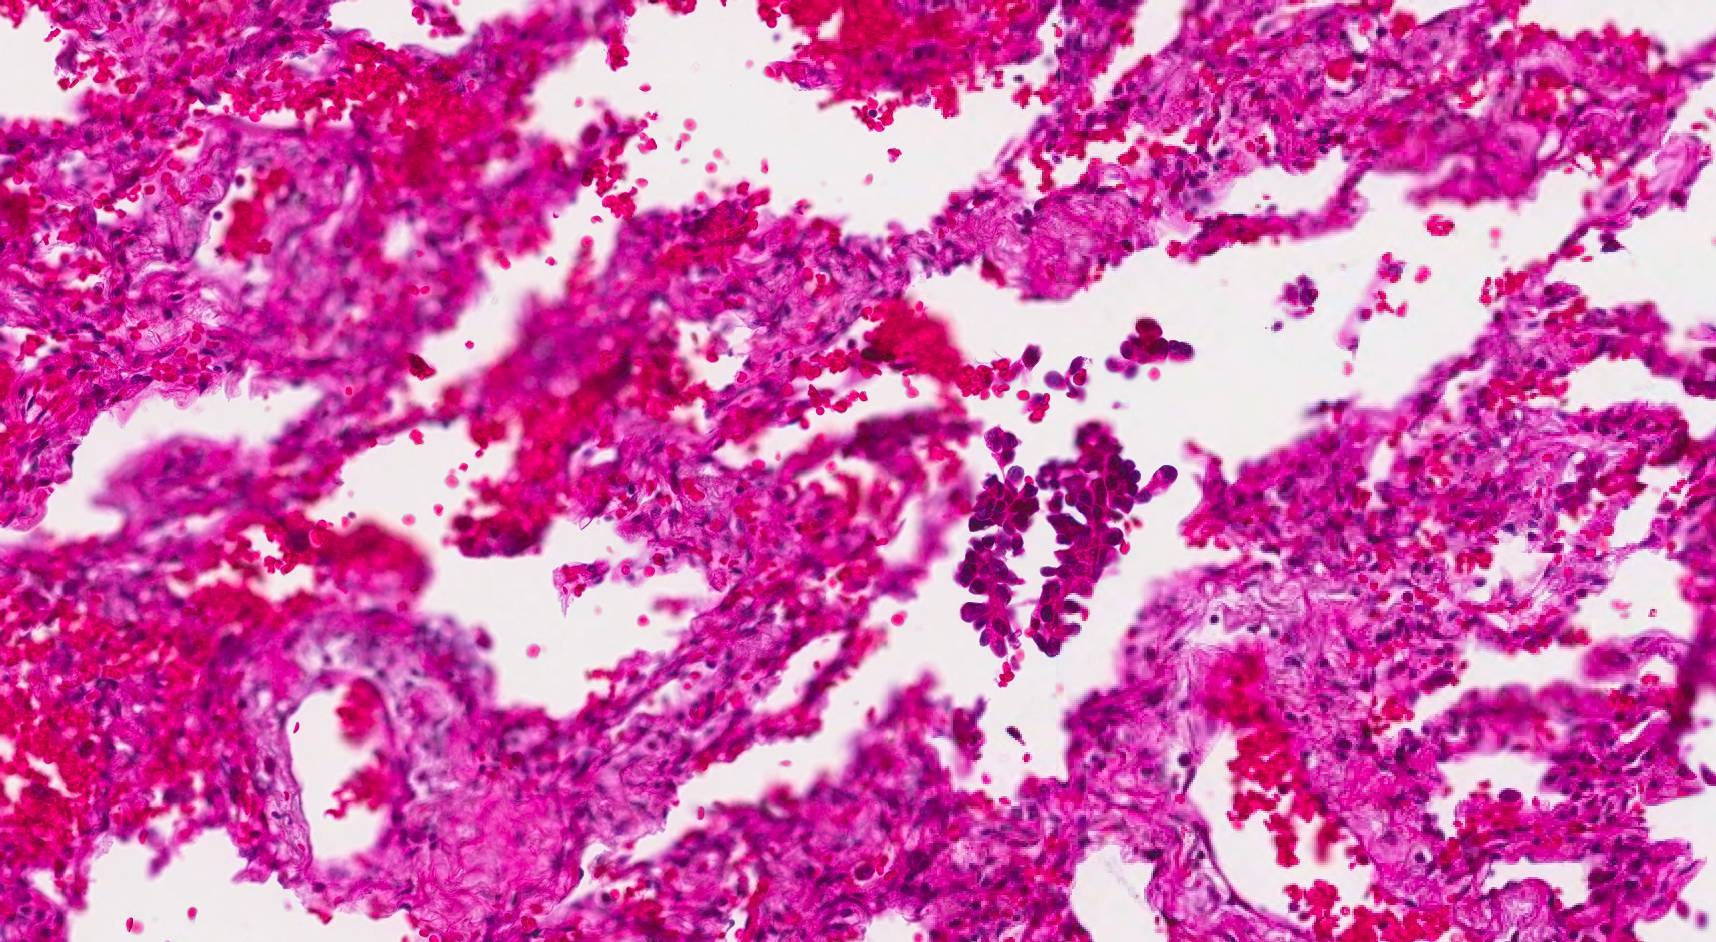stas: (954, 418, 1178, 662), (1107, 318, 1196, 376), (1042, 351, 1096, 399)
